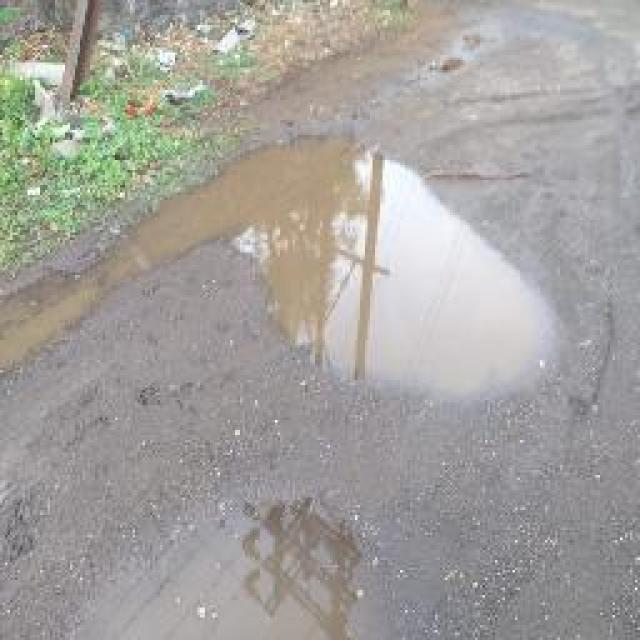stagnation: (19, 136, 602, 450)
